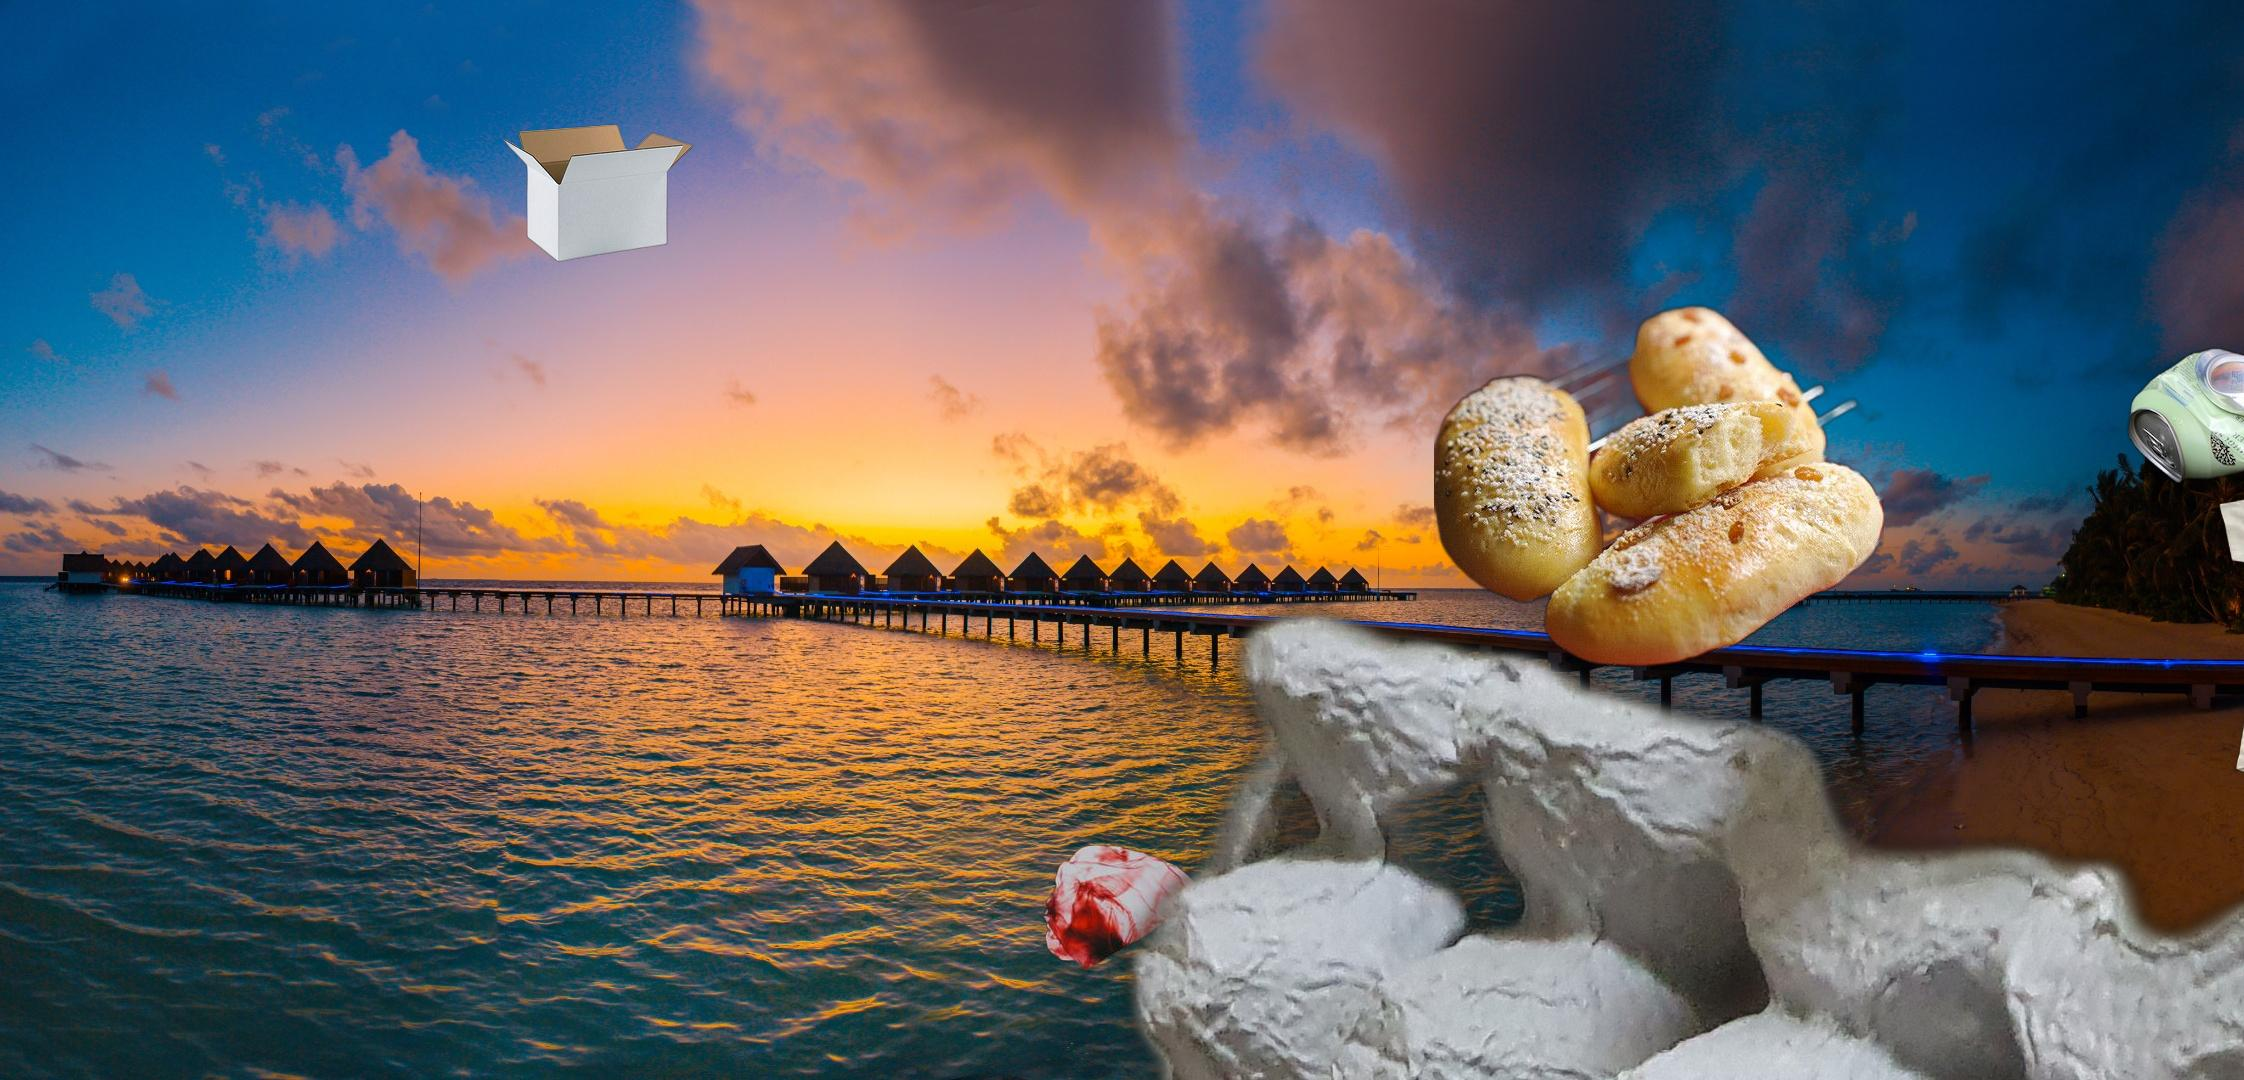biological: (1434, 300, 1883, 672)
clothes: (2215, 478, 2244, 792)
metal-cans: (2055, 342, 2244, 850)
plastic-bag: (1040, 843, 1206, 974)
trashbox-cardboard: (374, 584, 2244, 1080), (499, 122, 696, 265)
